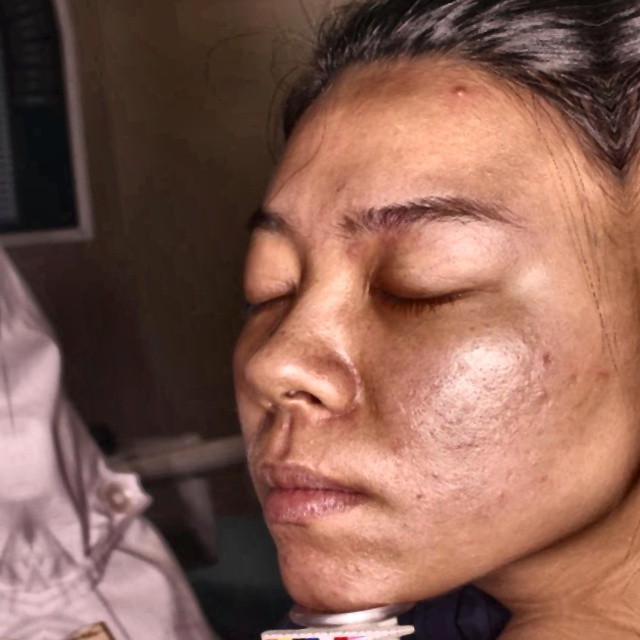comedone: (440, 81, 474, 109)
